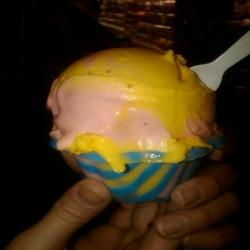icecream: (33, 32, 228, 211)
